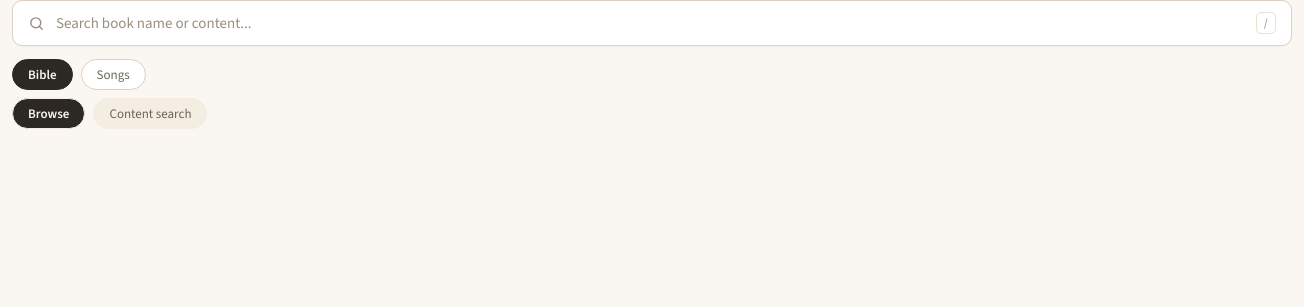
Scenario: SearchPanel › keeps the newer content-search results when an older query resolves last
Click the button "Content search". click: click(150, 114)
box: [94,98,208,129]
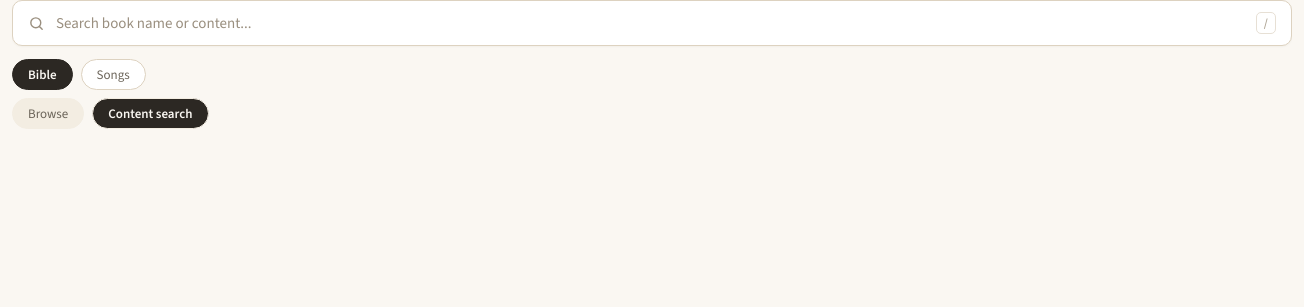
Type "lov" into the field with placeholder "Search book name or content...". click: (650, 23)
box: [56,13,1245,33]
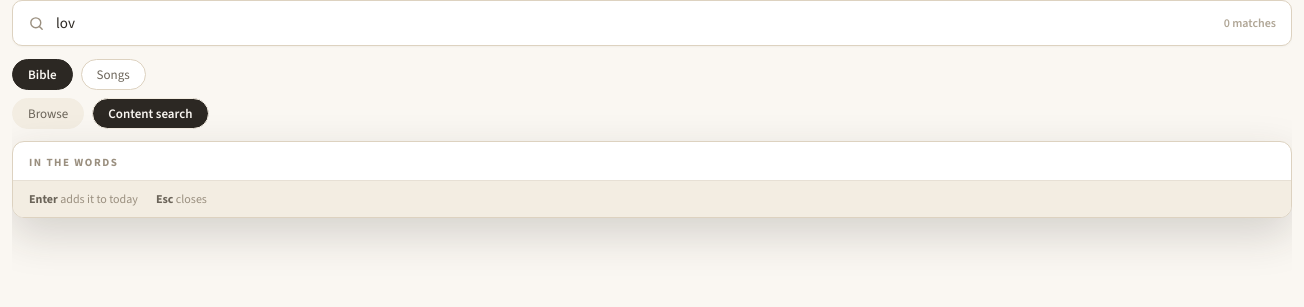
Replace the text in the field with placeholder "Search book name or content..." with "loved". click: (634, 23)
box: [56,13,1213,33]
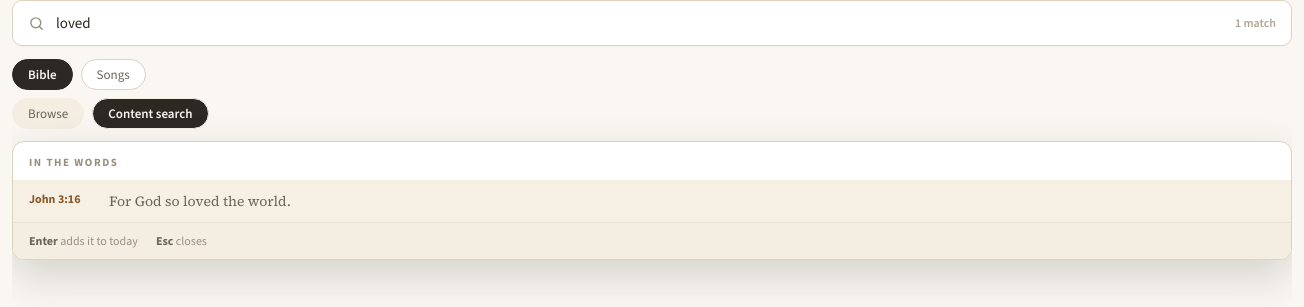
Now the text "John 3:16" is shown, box [29,191,80,207]
